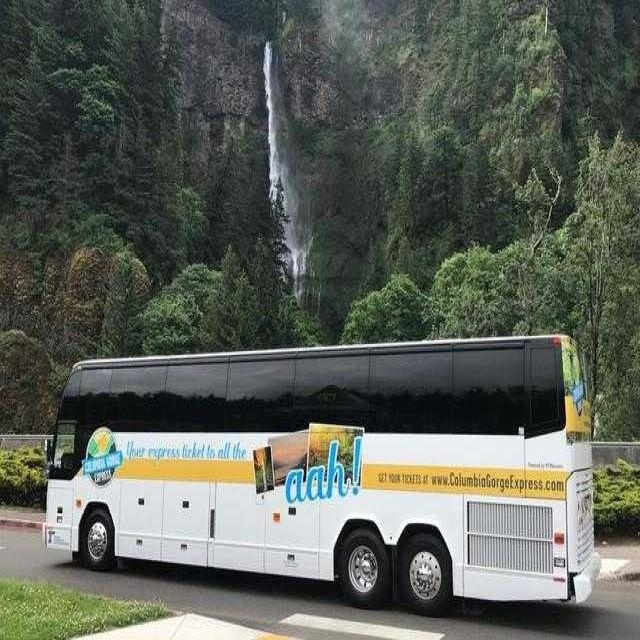Bus: (39, 349, 605, 620)
